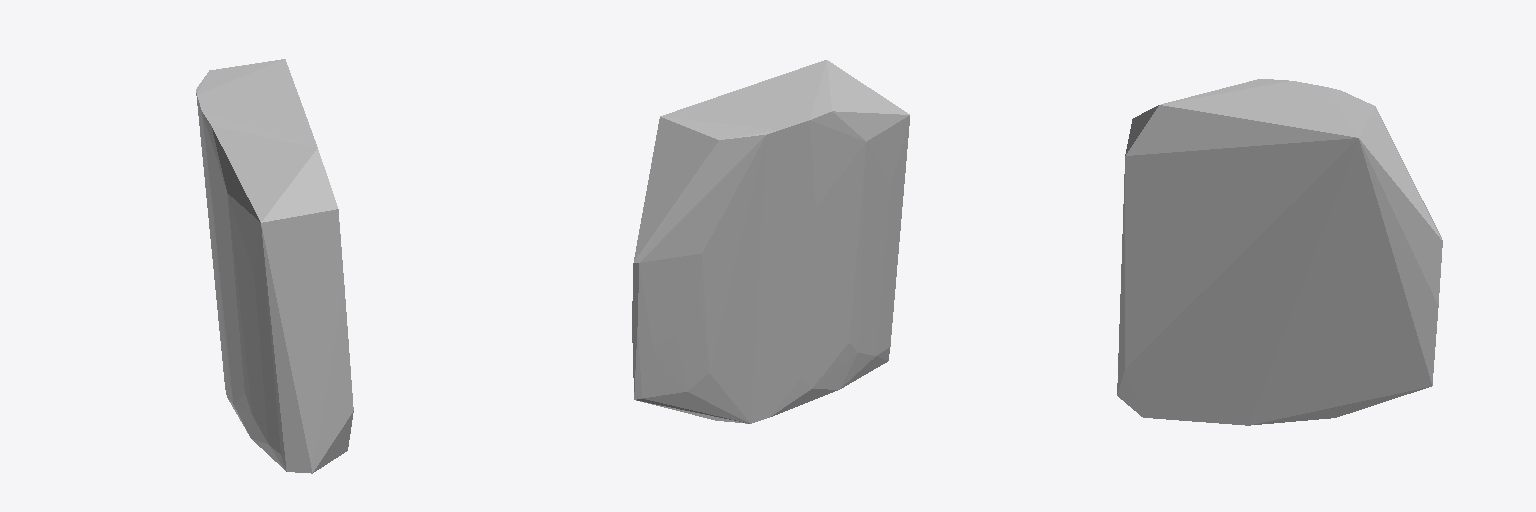
Rendered from trash_bin_collision_18.obj.
3 views of the same model, side by side, from view 1: azimuth 30°, elevation 25°; view 2: azimuth 150°, elevation 25°; view 3: azimuth 270°, elevation 25° (orthographic).
Size of the model in its own units: 0.0322 by 0.068 by 0.0661.